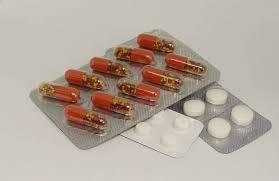pill_Strip: (30, 29, 219, 148), (30, 62, 219, 148), (169, 83, 271, 153), (121, 109, 202, 157), (200, 108, 271, 153), (169, 82, 238, 121), (117, 79, 159, 104), (91, 91, 133, 116), (64, 105, 106, 130), (142, 66, 182, 90), (165, 53, 205, 75), (65, 69, 106, 89), (38, 83, 79, 102), (90, 57, 130, 76), (137, 33, 174, 52), (114, 47, 153, 64), (67, 120, 107, 135), (166, 67, 207, 79), (207, 117, 230, 138), (230, 105, 253, 125), (110, 97, 133, 115), (183, 99, 205, 117), (206, 88, 227, 104), (82, 75, 105, 89), (107, 62, 130, 76), (155, 38, 174, 52), (114, 47, 132, 60), (39, 83, 55, 97)
